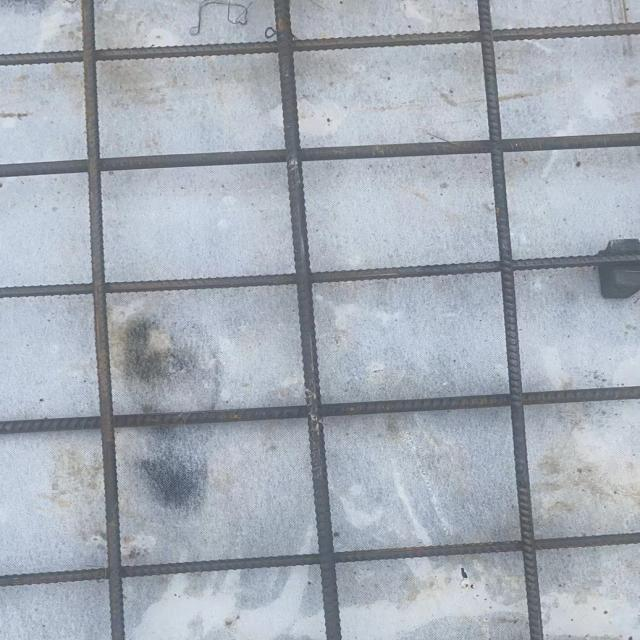ribbed bar: (271, 0, 344, 639), (478, 0, 543, 639), (0, 532, 639, 586), (0, 384, 639, 436), (0, 130, 639, 178), (79, 0, 126, 639), (0, 252, 639, 298), (0, 21, 639, 64)
